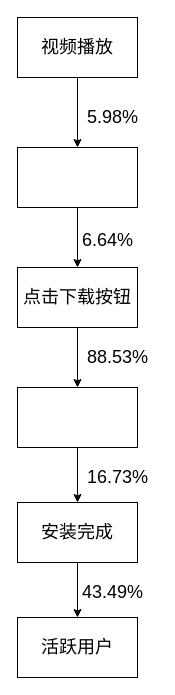
Image size: 175x695. Some labels were removed from this diagram. Each missing label, with the centre of its shape:
下载完成: point 77,417
点击下载落地页: point 77,177
